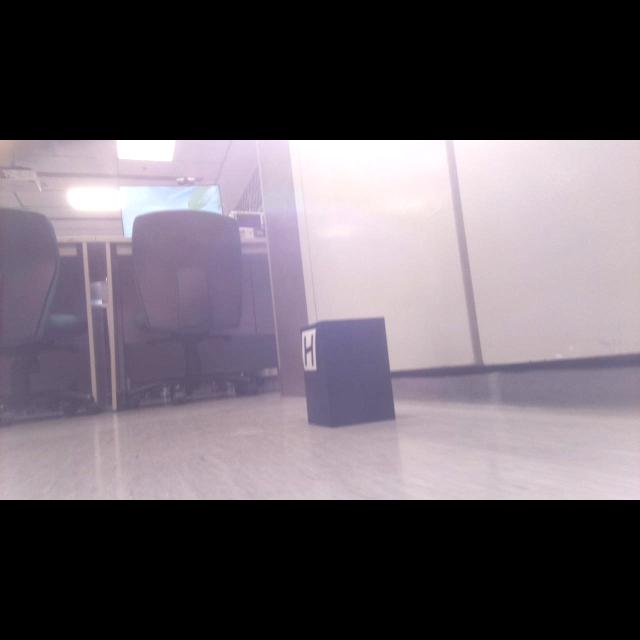H: (304, 334, 314, 367)
